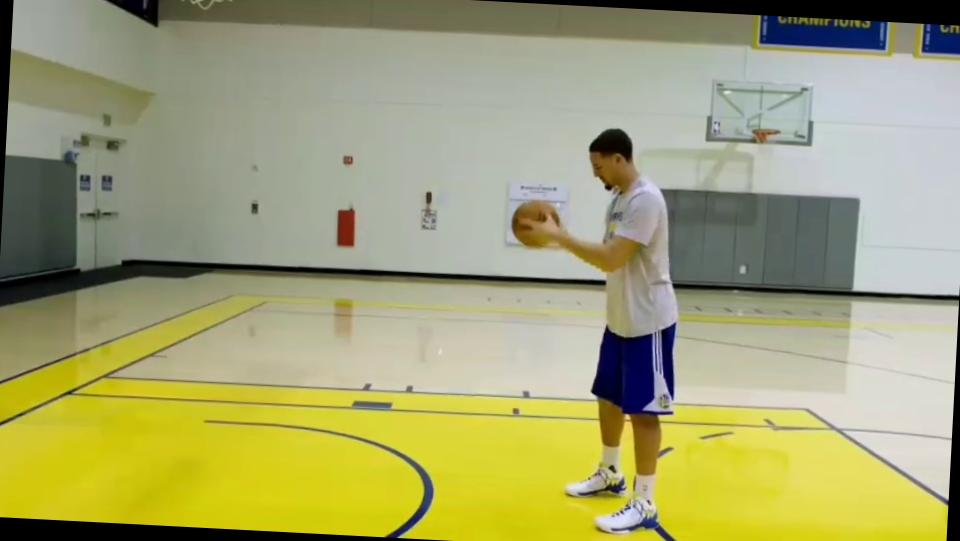hoop: (750, 128, 782, 144)
